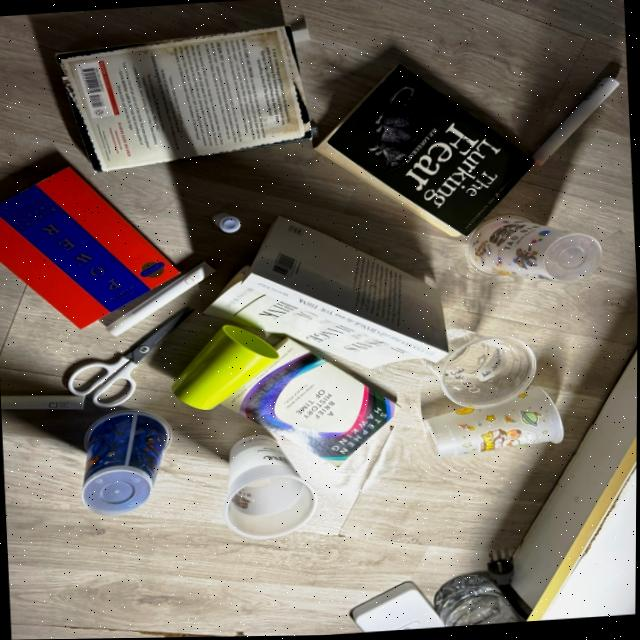Book: (314, 67, 534, 238), (57, 27, 312, 172), (251, 215, 449, 363), (0, 168, 179, 328), (223, 339, 397, 467), (203, 274, 432, 371)
HighLight Pen: (2, 395, 86, 410), (213, 212, 241, 233)
Plastic Cup: (425, 389, 564, 459), (225, 436, 318, 540), (83, 411, 171, 516), (466, 218, 601, 283), (108, 262, 215, 336), (533, 78, 619, 166), (432, 337, 537, 409)
Scissors: (91, 307, 196, 408), (68, 357, 127, 396)
